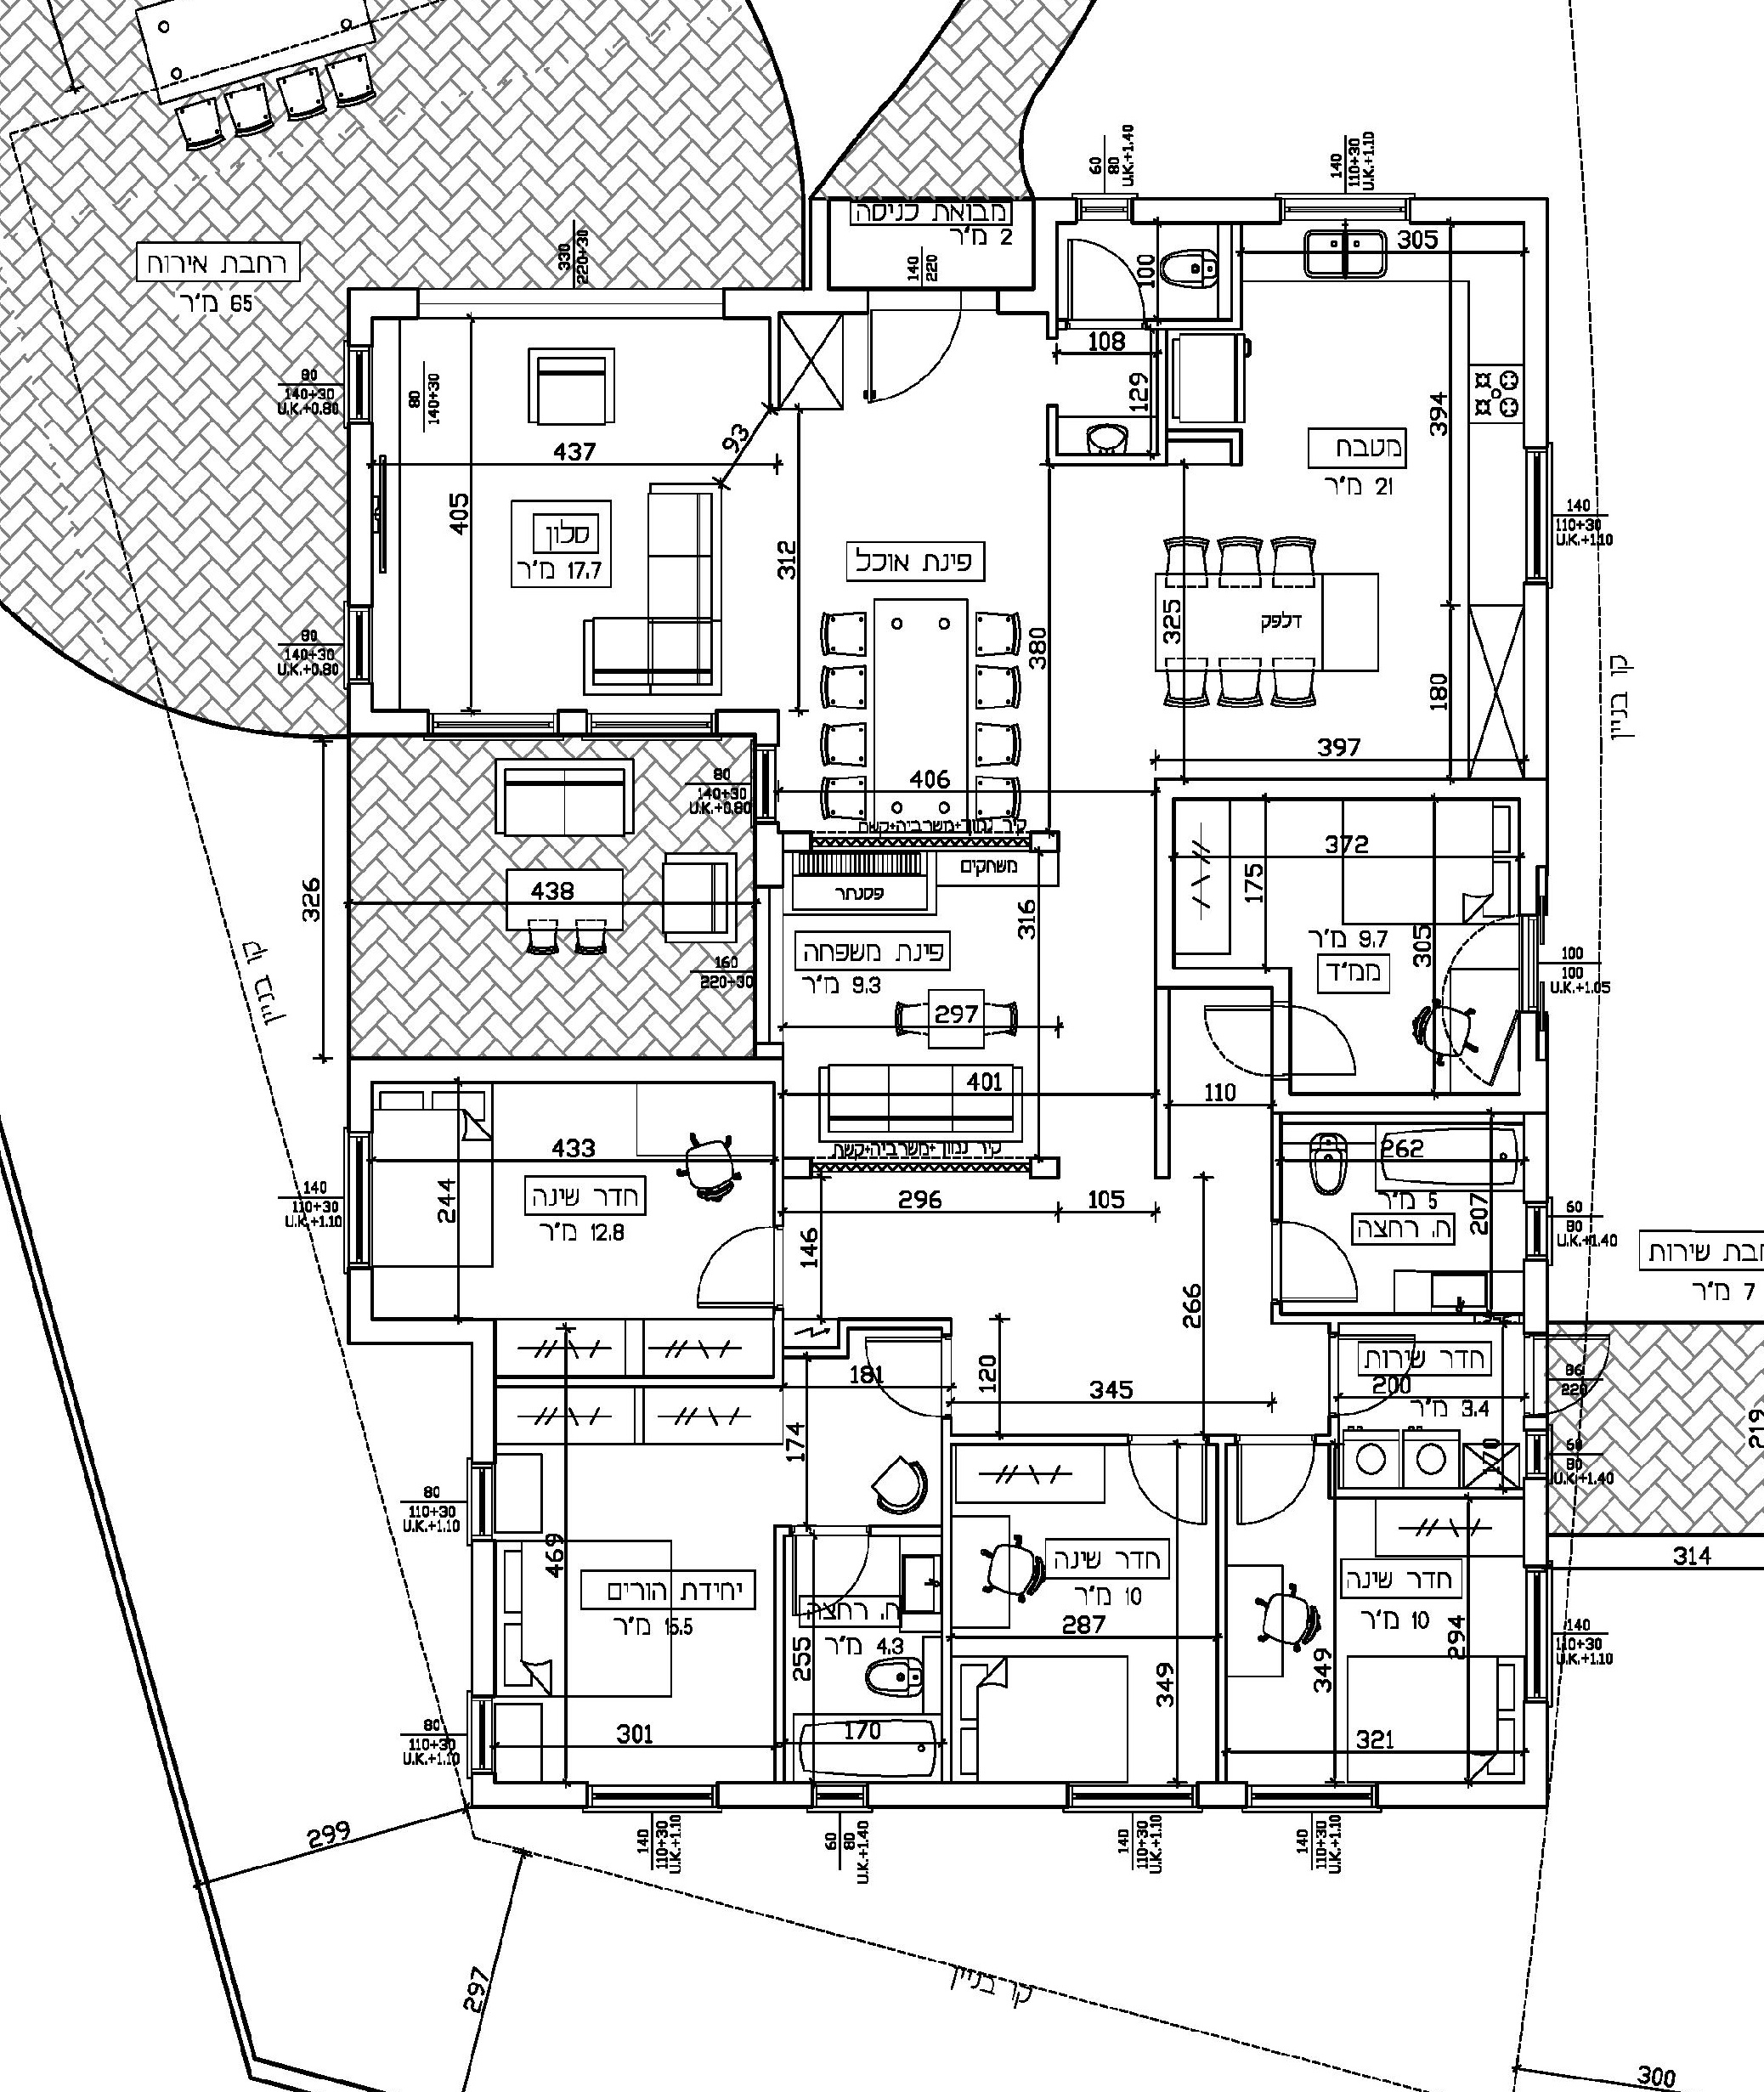door: (1239, 1217, 1377, 1319), (1234, 1417, 1333, 1548), (675, 1224, 801, 1312), (861, 311, 969, 413), (1193, 999, 1269, 1093), (1129, 1436, 1200, 1524)
window: (422, 282, 719, 325)
